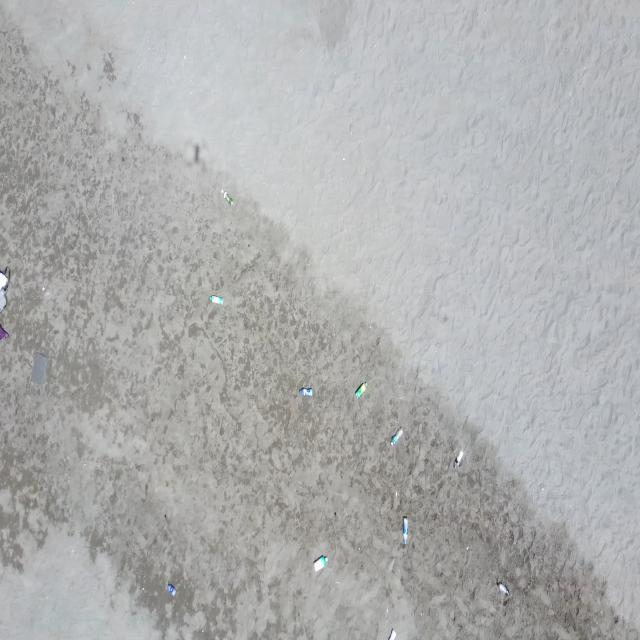Garbage: (32, 352, 47, 384), (0, 268, 8, 311), (0, 267, 8, 310), (495, 580, 510, 596), (313, 555, 327, 571), (390, 427, 402, 444), (452, 449, 463, 467), (220, 188, 232, 204), (355, 380, 366, 397), (402, 516, 407, 544), (0, 272, 8, 288), (208, 295, 223, 303), (0, 326, 8, 340), (299, 387, 312, 395), (193, 144, 199, 161), (167, 583, 175, 595), (0, 288, 4, 311), (387, 628, 395, 639), (5, 268, 7, 271)
